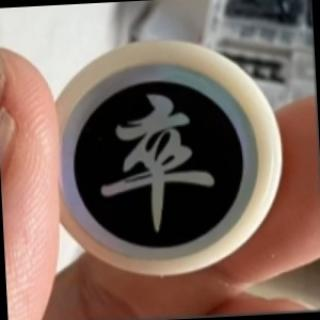qizi: (59, 43, 267, 265)
